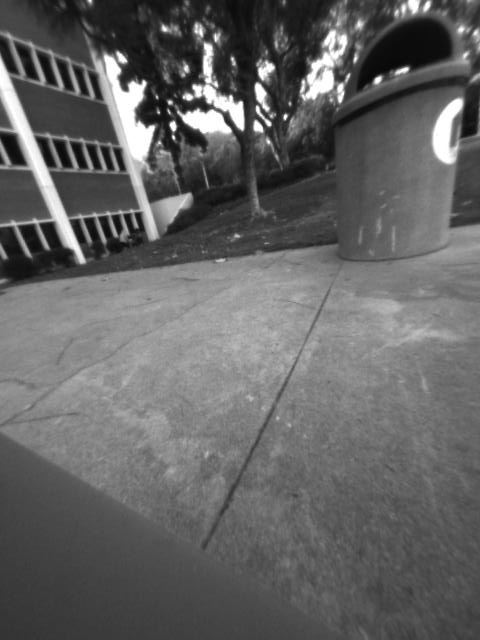trashcan: (327, 10, 471, 262)
